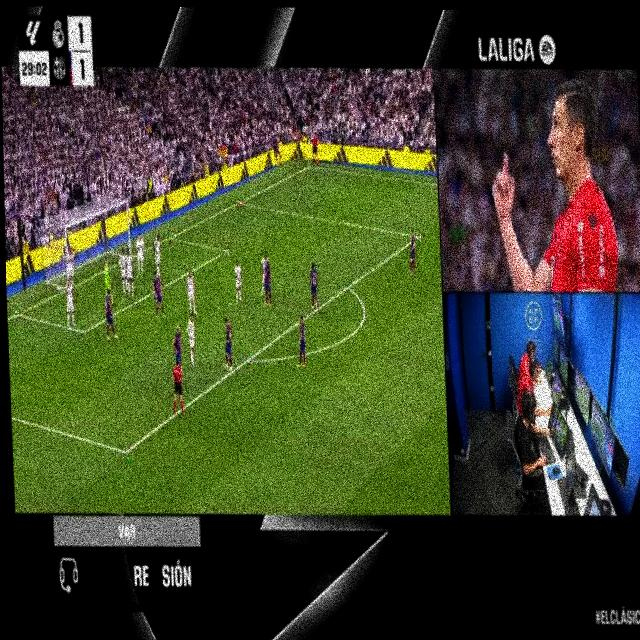bigarea_bottom_inner: (120, 438, 130, 463)
bigarea_top_inner: (414, 228, 421, 244)
bigarea_top_outter: (236, 195, 243, 207)
bottom_arc_area_intersection: (242, 347, 254, 370)
smallarea_bottom_inner: (79, 322, 88, 340)
smallarea_bottom_outter: (15, 304, 23, 322)
smallarea_top_inner: (221, 242, 229, 256)
smallarea_top_outter: (166, 228, 175, 243)
top_arc_area_intersection: (343, 277, 352, 294)
